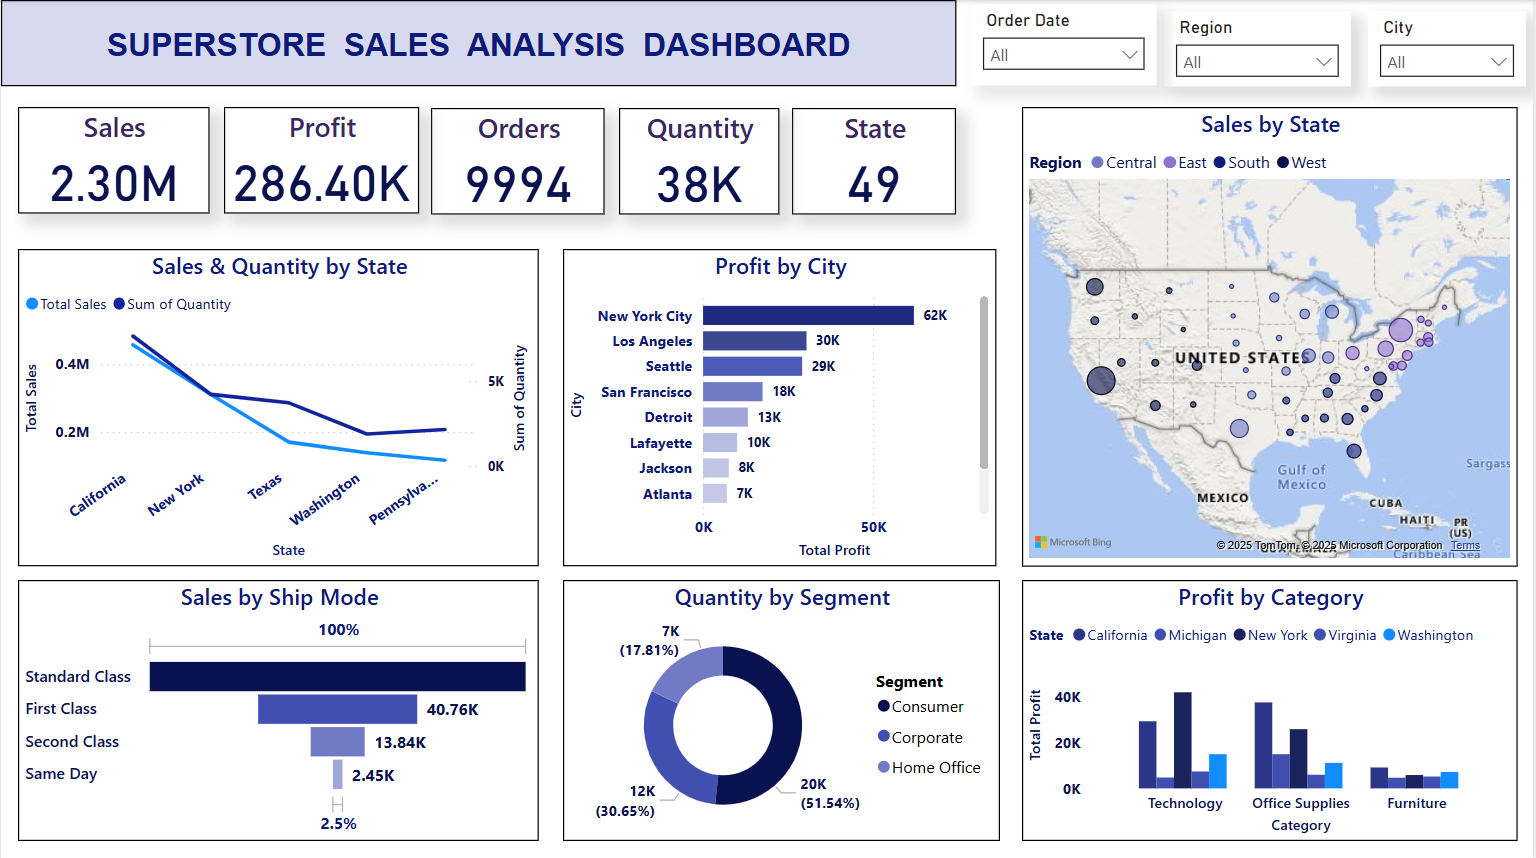

This screenshot's page, from the dashboard's own definition file:
{"tool":"powerbi","page":{"name":"Page 1","canvas":[1280,720],"ordinal":0},"visuals":[{"type":"textbox","box":[0,0,797.7,71.8],"z":0},{"type":"slicer","fields":{"Values":["Sample - Superstore.Region"]},"box":[971.4,9,156.2,62.8],"z":1000},{"type":"slicer","title":"City","fields":{"Values":["Sample - Superstore.City"]},"box":[1141.9,9,132,62.8],"z":2000},{"type":"card","title":"Sales","fields":{"Values":["Sample - Superstore.Total Sales"]},"box":[14.2,89.4,159.5,88.5],"z":3000},{"type":"card","title":"State","fields":{"Values":["Count(Sample - Superstore.State)"]},"box":[660.7,90.2,137,88.5],"z":4000},{"type":"card","title":"Orders","fields":{"Values":["CountNonNull(Sample - Superstore.Order ID)"]},"box":[359.2,90.2,145.3,88.5],"z":5000},{"type":"card","title":"Profit","fields":{"Values":["Sample - Superstore.Total Profit"]},"box":[186.4,89.1,162.7,89.1],"z":6000},{"type":"donutChart","title":" Quantity by Segment","fields":{"Category":["Sample - Superstore.Segment"],"Y":["Sum(Sample - Superstore.Quantity)"]},"box":[469.1,484.5,364.5,218.2],"z":7000},{"type":"clusteredColumnChart","title":"Profit by Category","fields":{"Category":["Sample - Superstore.Category"],"Series":["Sample - Superstore.State"],"Y":["Sample - Superstore.Total Profit"]},"box":[852.7,484.5,413.6,218.2],"z":8000},{"type":"funnel","title":"Sales by Ship Mode","fields":{"Y":["Sample - Superstore.Total Sales"],"Category":["Sample - Superstore.Ship Mode"]},"box":[14.5,484.5,435.5,218.2],"z":9000},{"type":"lineChart","title":"Sales  & Quantity by State","fields":{"Y":["Sample - Superstore.Total Sales"],"Category":["Sample - Superstore.State"],"Y2":["Sum(Sample - Superstore.Quantity)"]},"box":[14.5,208.2,435.5,265.5],"z":10000},{"type":"barChart","title":" Profit by City","fields":{"Category":["Sample - Superstore.City"],"Y":["Sample - Superstore.Total Profit"]},"box":[469.1,208.2,361.8,264.5],"z":11000},{"type":"slicer","fields":{"Values":["Sample - Superstore.Order Date"]},"box":[810,3.6,155.5,68.2],"z":12000},{"type":"map","title":"Sales by State","fields":{"Category":["Sample - Superstore.State"],"Series":["Sample - Superstore.Region"],"Size":["Sample - Superstore.Total Sales"]},"box":[852.7,89.1,413.6,383.6],"z":13000},{"type":"card","title":"Quantity","fields":{"Values":["Sample - Superstore.QNTY"]},"box":[516.2,90.2,133.6,88.5],"z":14000}]}

Visuals, with their boxes in screenshot pixels (x1, y1, x2, y2), scaled from the page's 1280x720 canvas onto the 1536x858 screenshot:
textbox: 0:0:957:86
slicer - Sample - Superstore.Region: 1166:11:1353:86
"City" slicer: 1370:11:1529:86
"Sales" card: 17:107:208:212
"State" card: 793:107:957:213
"Orders" card: 431:107:605:213
"Profit" card: 224:106:419:212
" Quantity by Segment" donutChart: 563:577:1000:837
"Profit by Category" clusteredColumnChart: 1023:577:1520:837
"Sales by Ship Mode" funnel: 17:577:540:837
"Sales  & Quantity by State" lineChart: 17:248:540:564
" Profit by City" barChart: 563:248:997:563
slicer - Sample - Superstore.Order Date: 972:4:1159:86
"Sales by State" map: 1023:106:1520:563
"Quantity" card: 619:107:780:213
